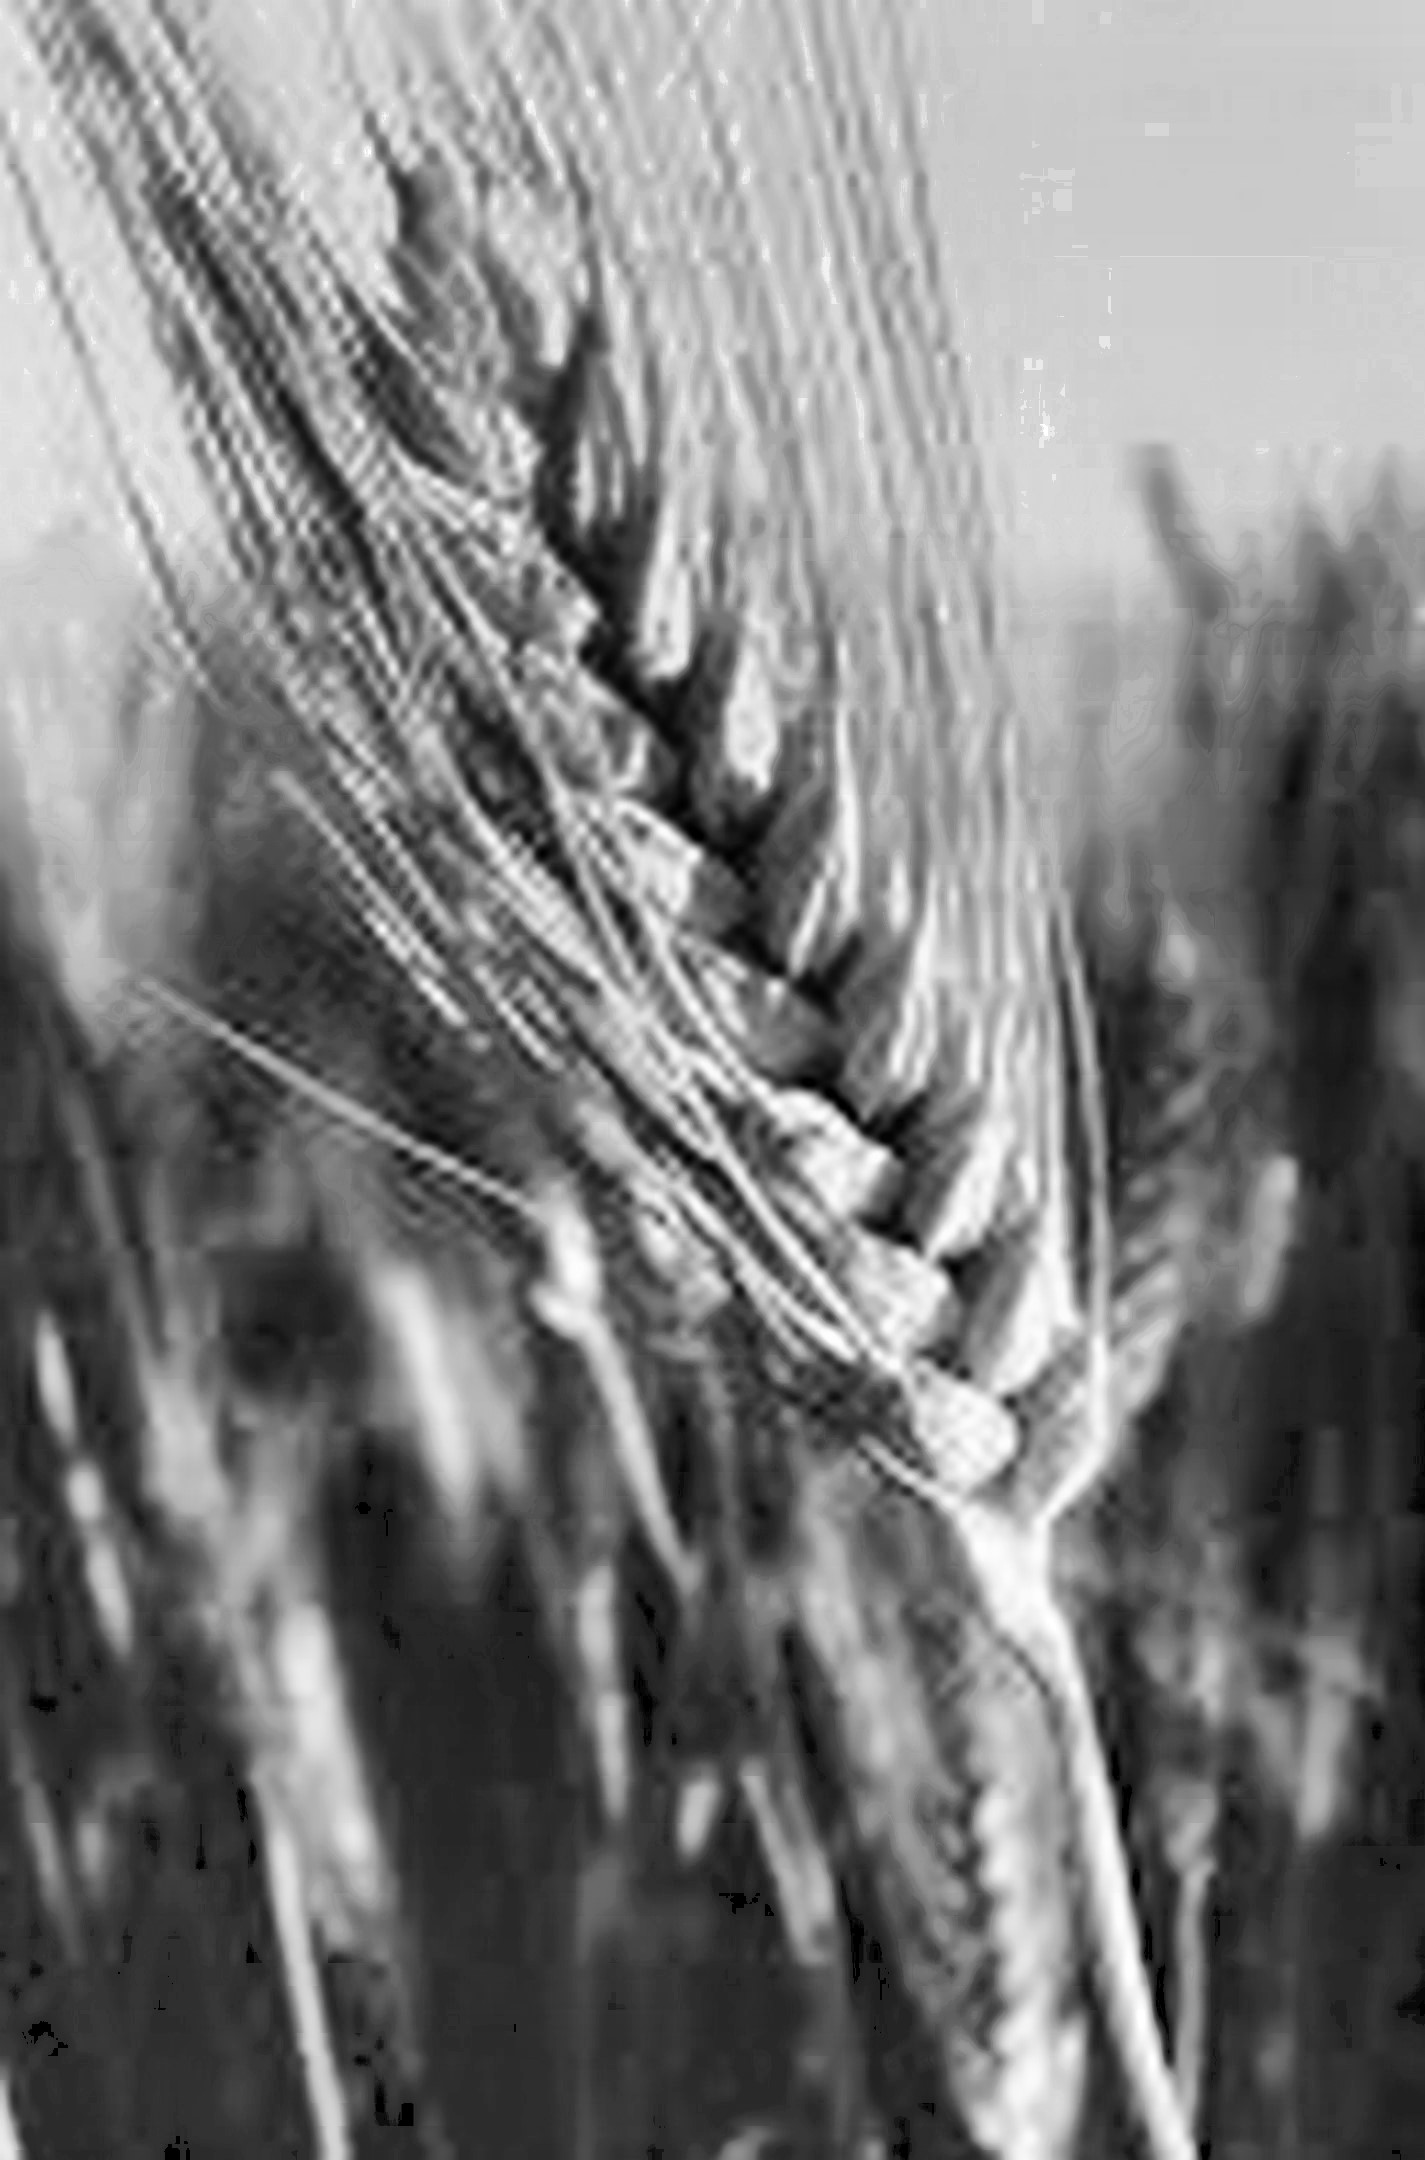Healthy Wheat: (239, 138, 1171, 1505)
